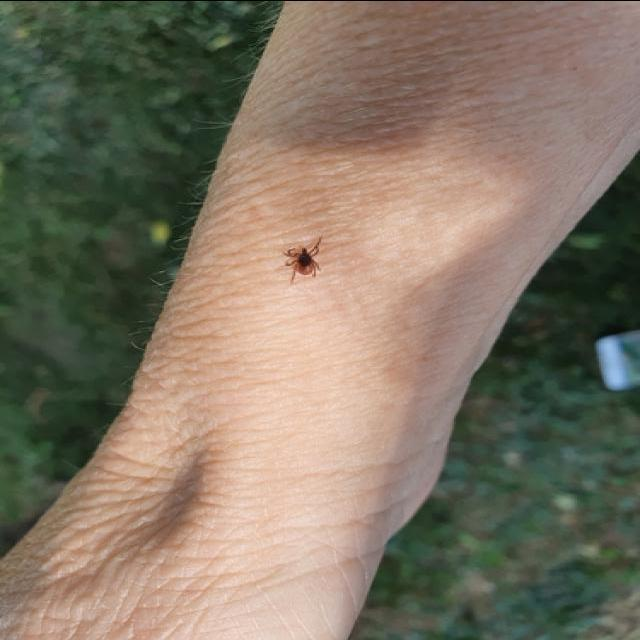Ixodes Ricinus-F: (273, 233, 331, 287)
